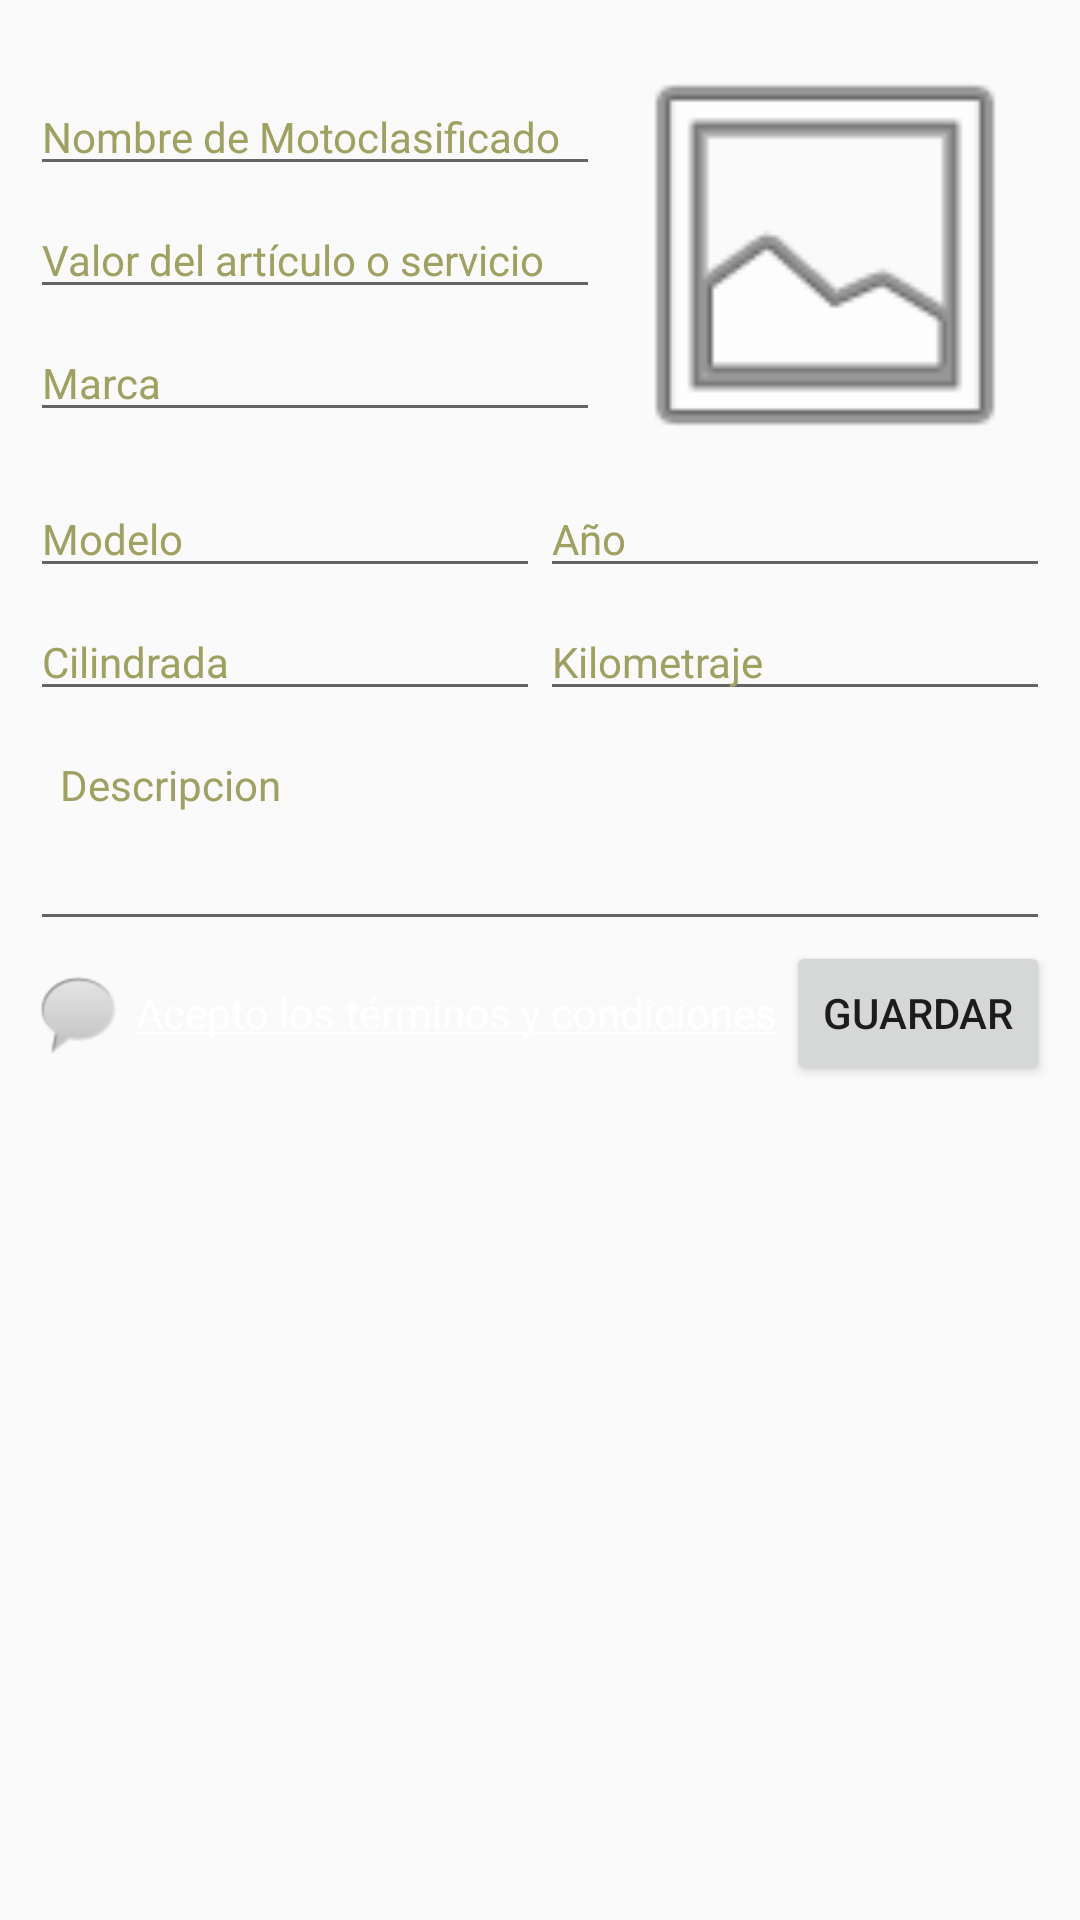

Icon click points for this 1080 x 1920 phone screenshot, format (x,y):
gallery: (825,255)
sym action chat: (77,1014)
